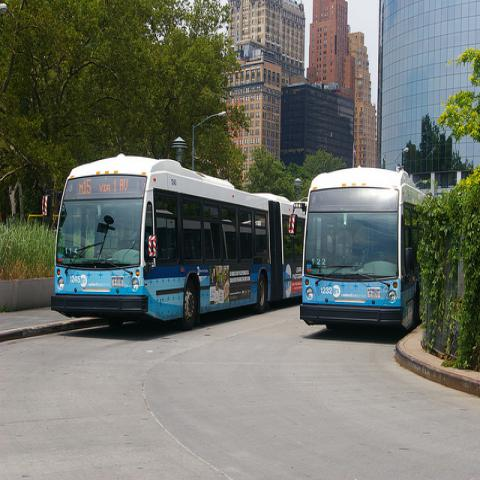bus: (47, 173, 307, 317), (299, 170, 425, 330)
